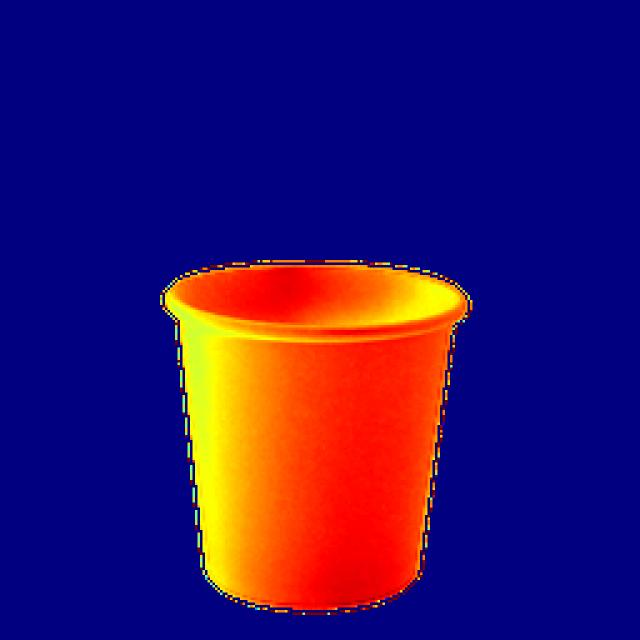Paper Cups: (158, 250, 474, 618)
